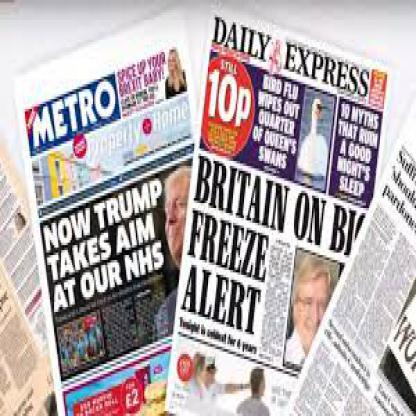paper: (166, 8, 390, 414), (14, 18, 190, 414), (284, 104, 415, 414), (0, 146, 56, 414)
